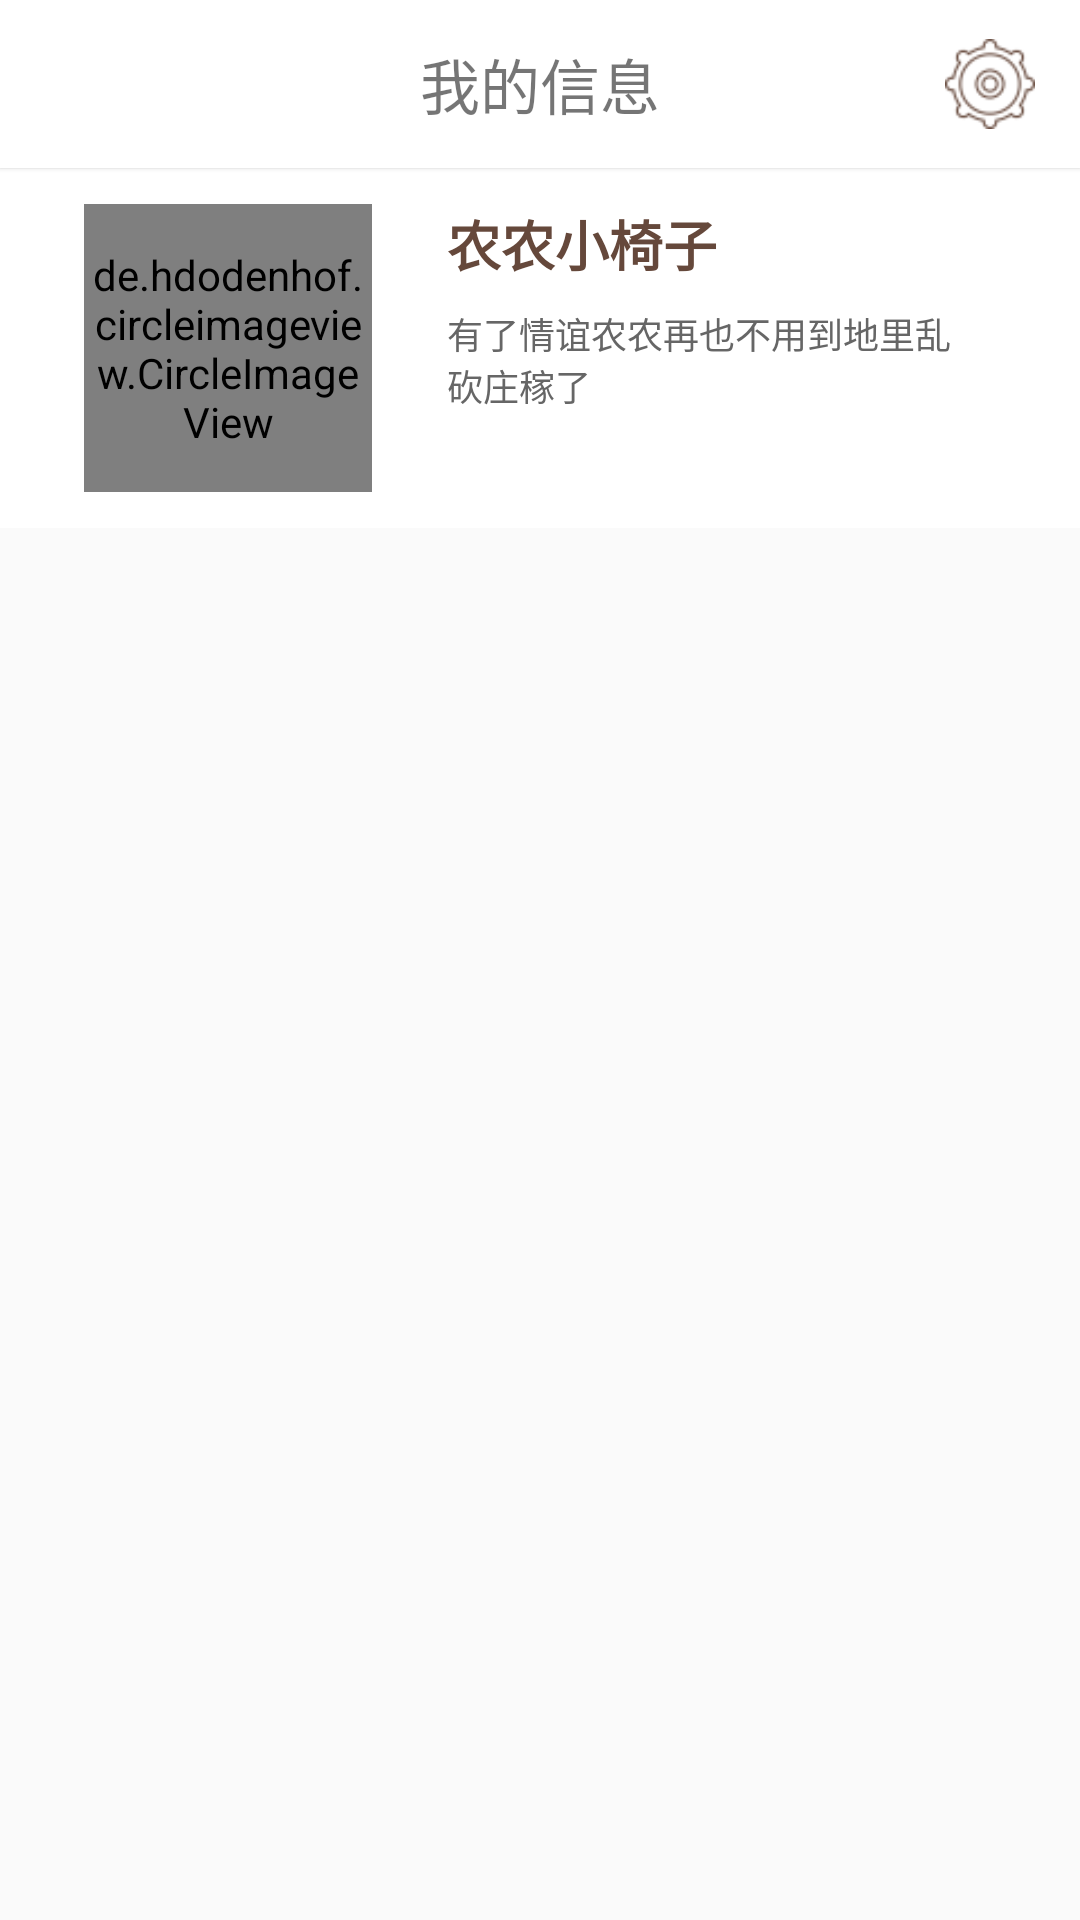

Where icons sit on this 1080×1920 app screen, as bbox=[x1, y1, x2, y2]:
page set: bbox=[945, 39, 1035, 129]
